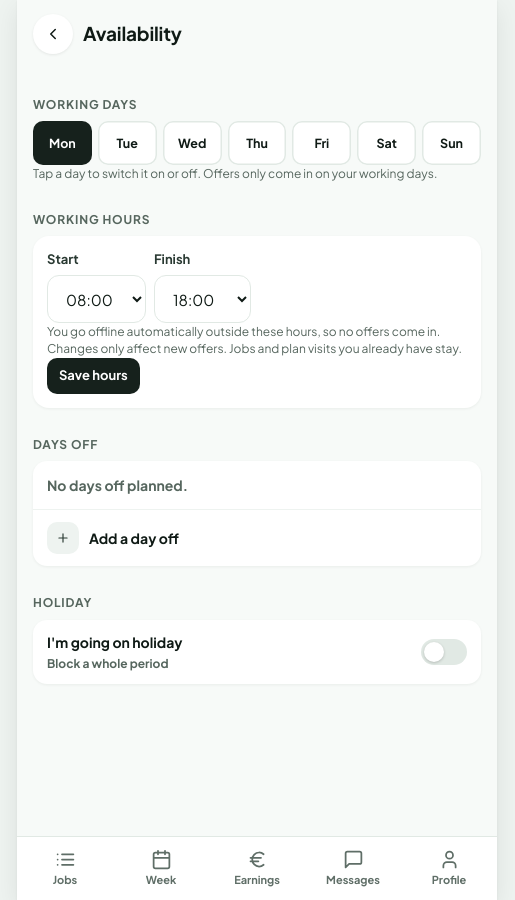
Test: Availability (D99) › never saves a week without working days
Click the button with aria-label "Monday": [62, 143] box left=33, top=121, right=92, bottom=165
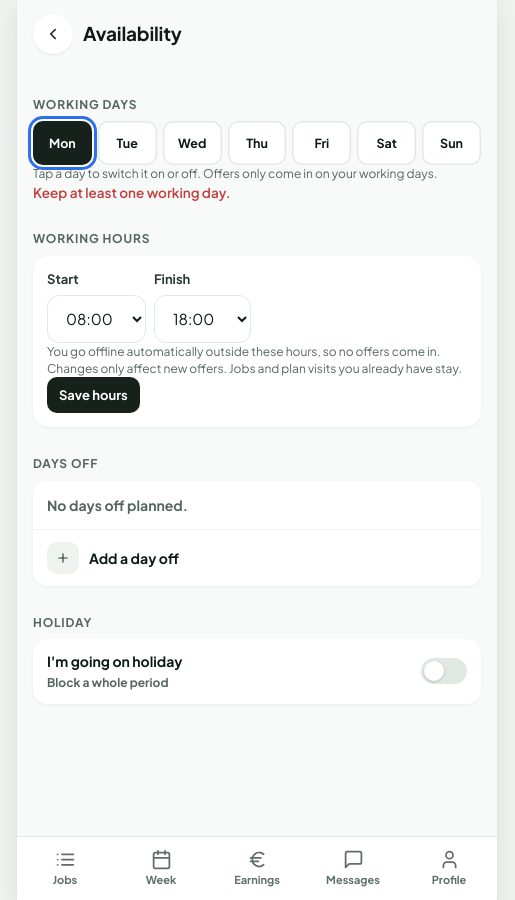
Check: the text "Keep at least one working day." is shown, box left=33, top=184, right=230, bottom=201
